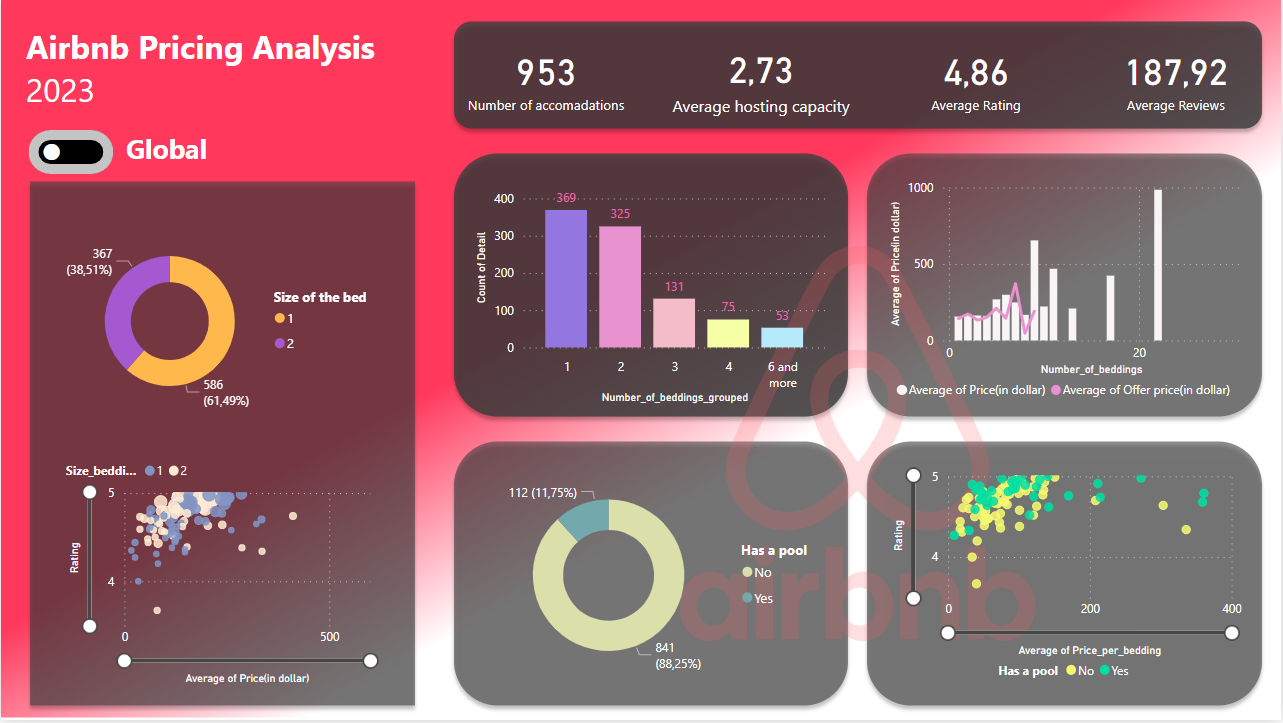

What the dashboard file says about the page in this screenshot:
{"tool":"powerbi","page":{"name":"Main","canvas":[1280,720],"ordinal":0},"visuals":[{"type":"scatterChart","fields":{"X":["Avg(data_airbnb.Price(in dollar))"],"Y":["data_airbnb.Rating"],"Series":["data_airbnb.Size_beddings"],"Size":["Sum(data_airbnb.Size_beddings)"]},"box":[60,451.4,324.3,237.1],"z":0},{"type":"card","title":"Numbre_of_accomodations","fields":{"Values":["CountNonNull(data_airbnb.Detail)"]},"box":[444.7,28,200,100],"z":1000},{"type":"card","title":"Average_hosting_capacity","fields":{"Values":["Avg(data_airbnb.Hosting_capacity)"]},"box":[659.7,28,200,100],"z":2000},{"type":"textbox","title":"Title","box":[20,20,380,100],"z":3000},{"type":"card","title":"Average_rating","fields":{"Values":["Avg(data_airbnb.Rating)"]},"box":[874.7,28,200,100],"z":4000},{"type":"card","title":"Average_number_reviews","fields":{"Values":["Avg(data_airbnb.Review_number)"]},"box":[1089.7,28,170,100],"z":5000},{"type":"lineClusteredColumnComboChart","fields":{"Category":["data_airbnb.Number_of_beddings"],"Y":["Avg(data_airbnb.Price(in dollar))"],"Y2":["Avg(data_airbnb.Offer price(in dollar))"]},"box":[884.3,174.3,361.4,234.3],"z":6000},{"type":"donutChart","fields":{"Y":["CountNonNull(data_airbnb.Detail)"],"Category":["data_airbnb.Pool_char"]},"box":[470,462.9,360,225.7],"z":7000},{"type":"scatterChart","fields":{"X":["Avg(data_airbnb.Price_per_bedding)"],"Y":["data_airbnb.Rating"],"Series":["data_airbnb.Pool_char"]},"box":[884,463,362,226],"z":8000},{"type":"donutChart","fields":{"Y":["CountNonNull(data_airbnb.Detail)"],"Category":["data_airbnb.Size_beddings"]},"box":[60,207.5,323.8,227.5],"z":9000},{"type":"bookmarkNavigator","title":"Toggle","box":[27.1,130,85.7,44.3],"z":10000},{"type":"textbox","title":"Global","box":[120,125,102.9,48.6],"z":11000},{"type":"clusteredColumnChart","title":"Count of Detail by Number_of_beddings_grouped","fields":{"Category":["data_airbnb.Number_of_beddings_grouped"],"Y":["CountNonNull(data_airbnb.Detail)"]},"box":[470,174.3,360,234.3],"z":13000}]}

Visuals, with their boxes in screenshot pixels (x1, y1, x2, y2), scaled from the page's 1280x720 canvas onto the 1283x723 screenshot:
scatterChart - Avg(data_airbnb.Price(in dollar)) x data_airbnb.Rating: detection(60, 453, 385, 691)
"Numbre_of_accomodations" card: detection(446, 28, 646, 129)
"Average_hosting_capacity" card: detection(661, 28, 862, 129)
"Title" textbox: detection(20, 20, 401, 120)
"Average_rating" card: detection(877, 28, 1077, 129)
"Average_number_reviews" card: detection(1092, 28, 1263, 129)
lineClusteredColumnComboChart - data_airbnb.Number_of_beddings x Avg(data_airbnb.Price(in dollar)): detection(886, 175, 1249, 410)
donutChart - CountNonNull(data_airbnb.Detail) x data_airbnb.Pool_char: detection(471, 465, 832, 691)
scatterChart - Avg(data_airbnb.Price_per_bedding) x data_airbnb.Rating: detection(886, 465, 1249, 692)
donutChart - CountNonNull(data_airbnb.Detail) x data_airbnb.Size_beddings: detection(60, 208, 385, 437)
"Toggle" bookmarkNavigator: detection(27, 131, 113, 175)
"Global" textbox: detection(120, 126, 223, 174)
"Count of Detail by Number_of_beddings_grouped" clusteredColumnChart: detection(471, 175, 832, 410)
